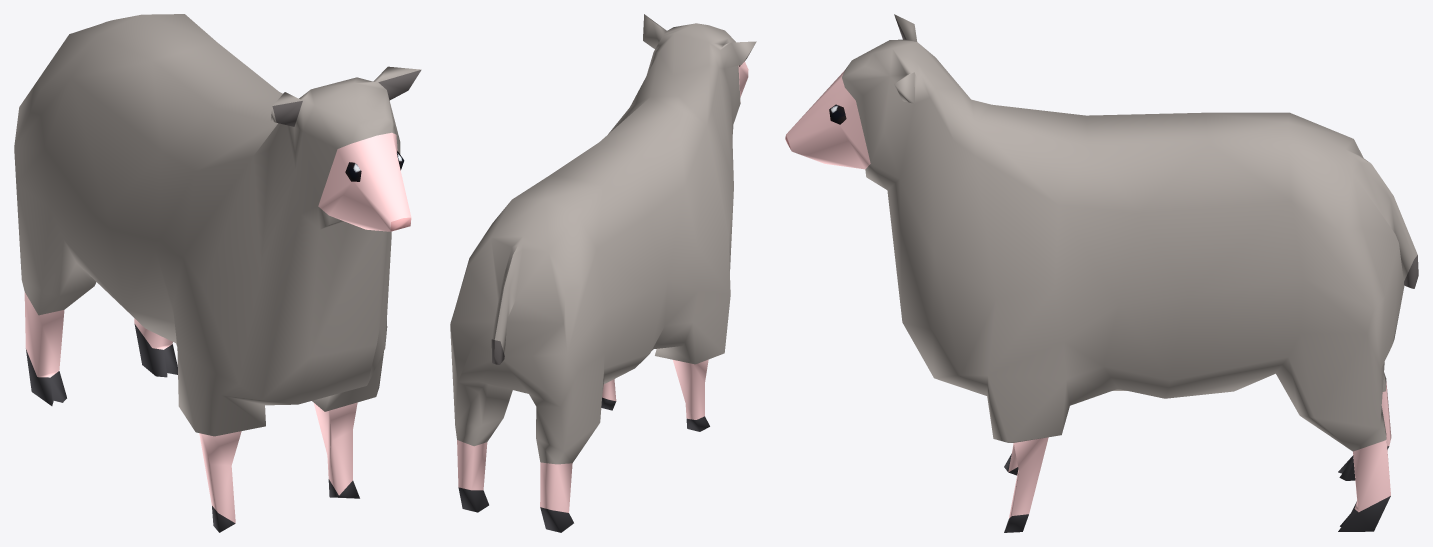
Rendered from Lamb.glb.
The picture shows the model from 3 angles, left to right: view 1: azimuth 30°, elevation 25°; view 2: azimuth 150°, elevation 25°; view 3: azimuth 270°, elevation 25°; orthographic projection. The views are drawn at different scales.
Parts seen in each view (by area): view 1: Lamb; view 2: Lamb; view 3: Lamb.
Boxes of the visible parts, box(x1,y1,x2,y2) form: Lamb: box(14, 14, 421, 532); Lamb: box(450, 14, 756, 532); Lamb: box(785, 14, 1418, 532).
Size of what is drawn, in the model's own units: 0.5627 by 1.39 by 1.75.
1 material, 1 textured.
